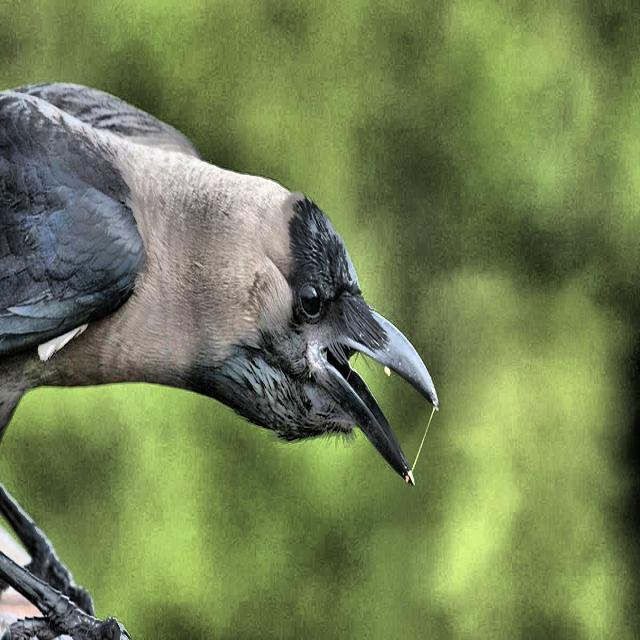crow: (0, 54, 441, 559)
